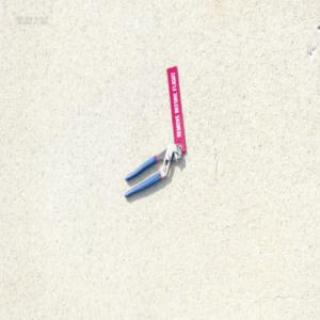LuggageTagtrack_idkeyframe: (166, 65, 186, 152)
Pliertrack_idkeyframe: (124, 141, 182, 198)
